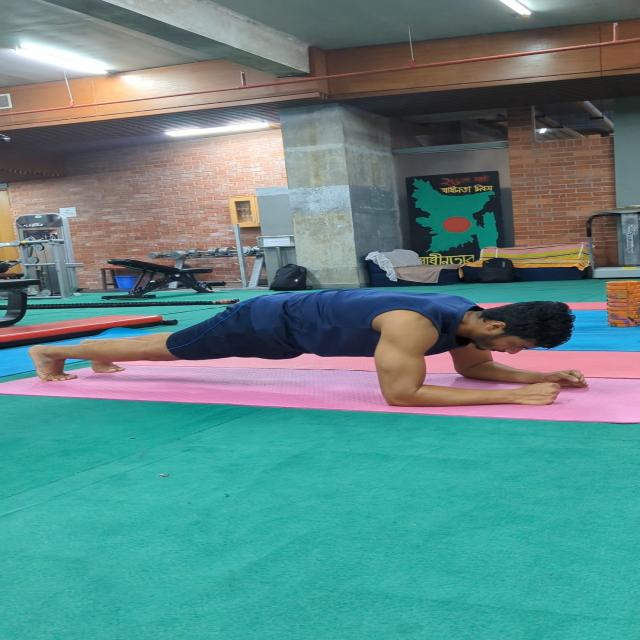Normal_Plunk: (16, 278, 588, 420)
